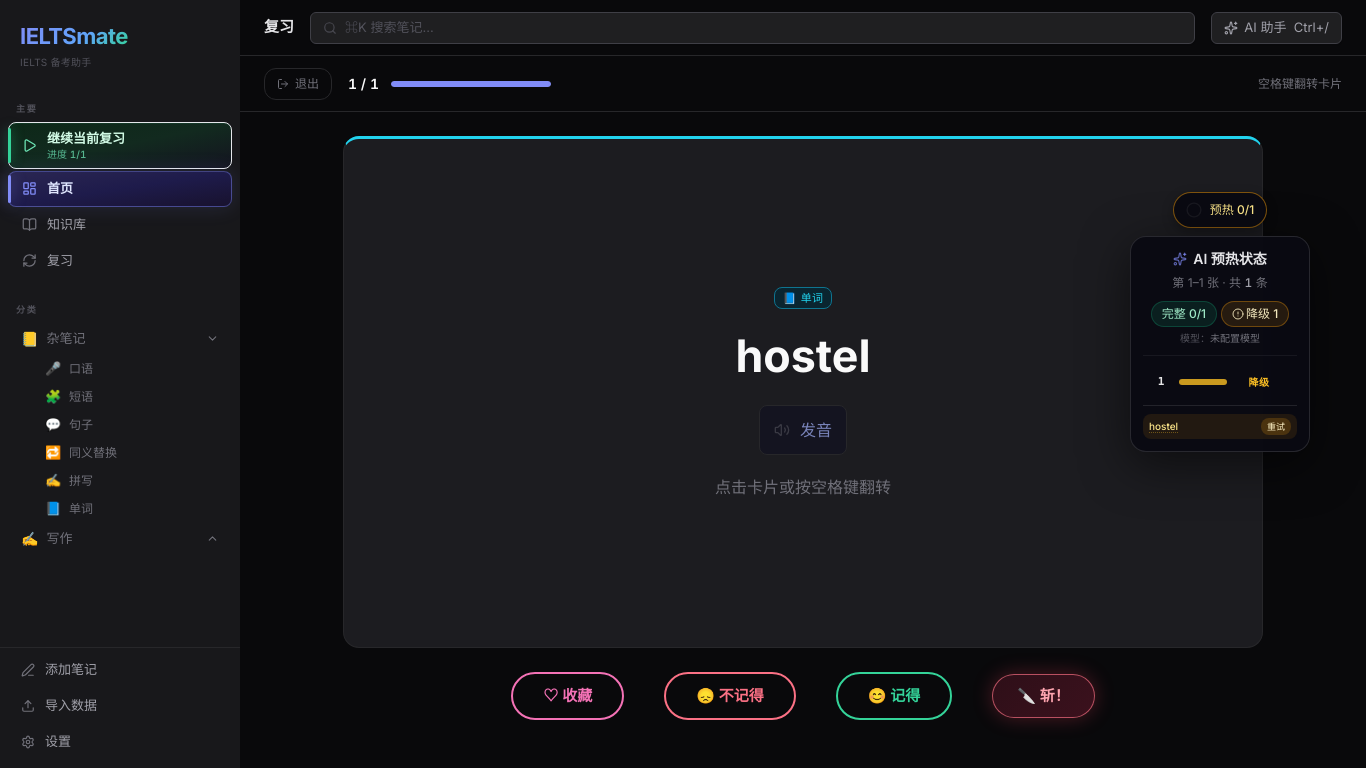
it: ReviewCards user notes on card back › 备注图片的键盘交互不会把卡片翻回正面
Click the heading "hostel".
click(803, 357)  # box [735,329,871,385]
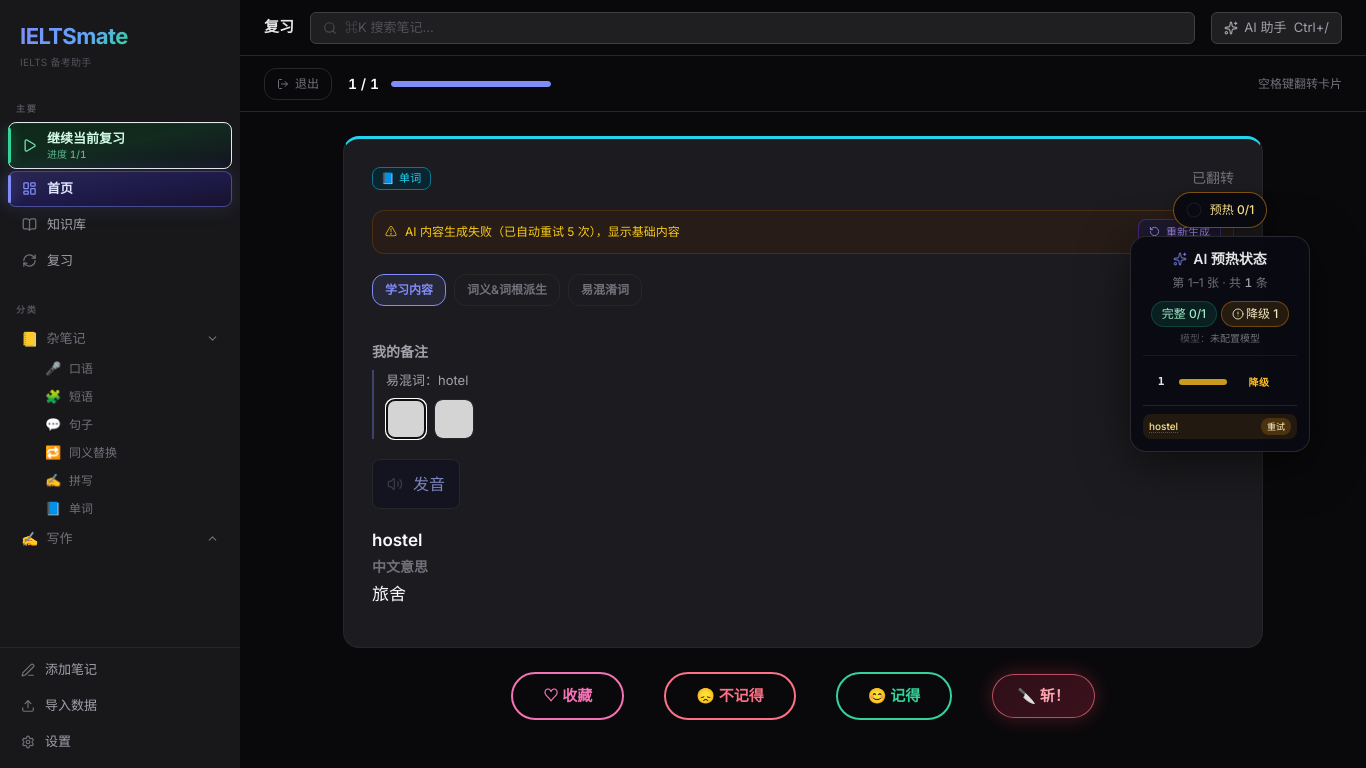
Expected: the text "我的备注" is shown, [372,343,428,360]
Type keys "[Space]"
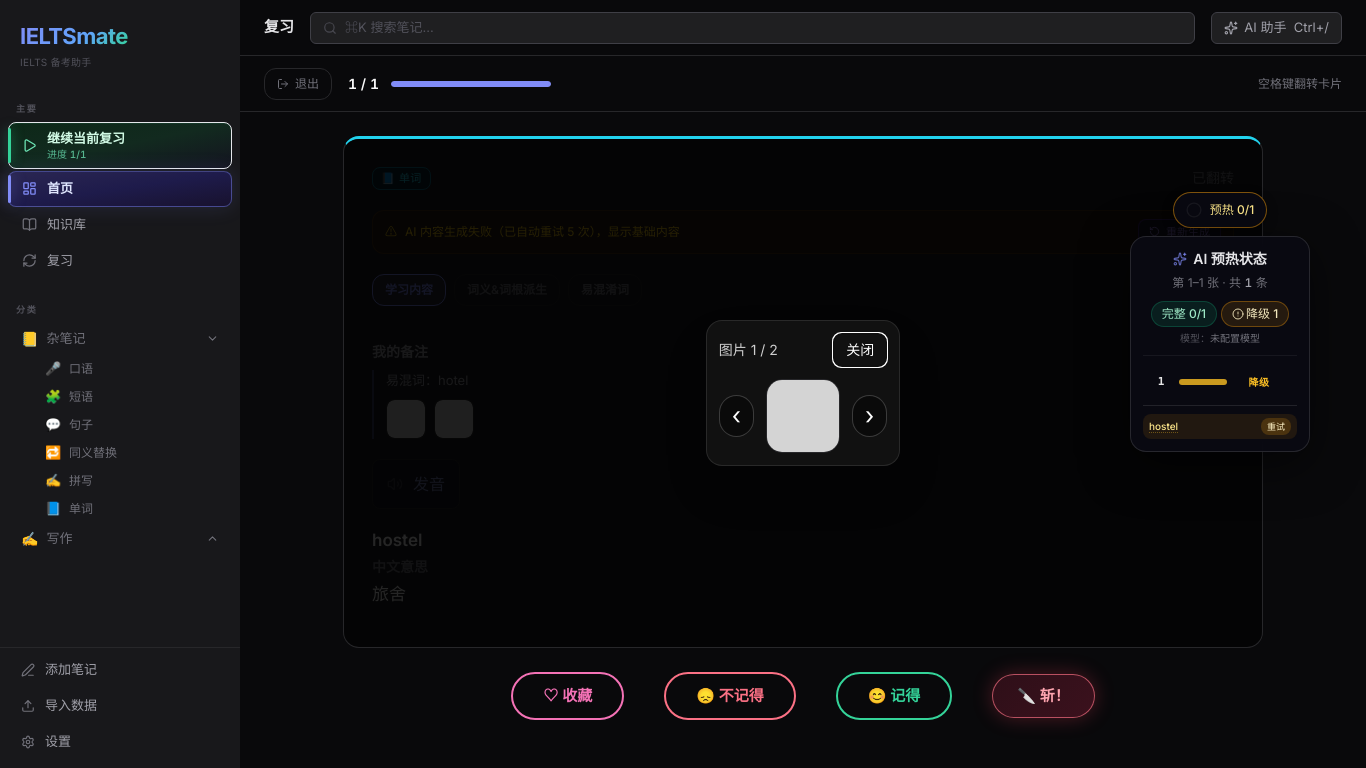
Expected: the dialog named "备注图片预览" is shown, [344,139,1262,646]
Type keys "[Space]"
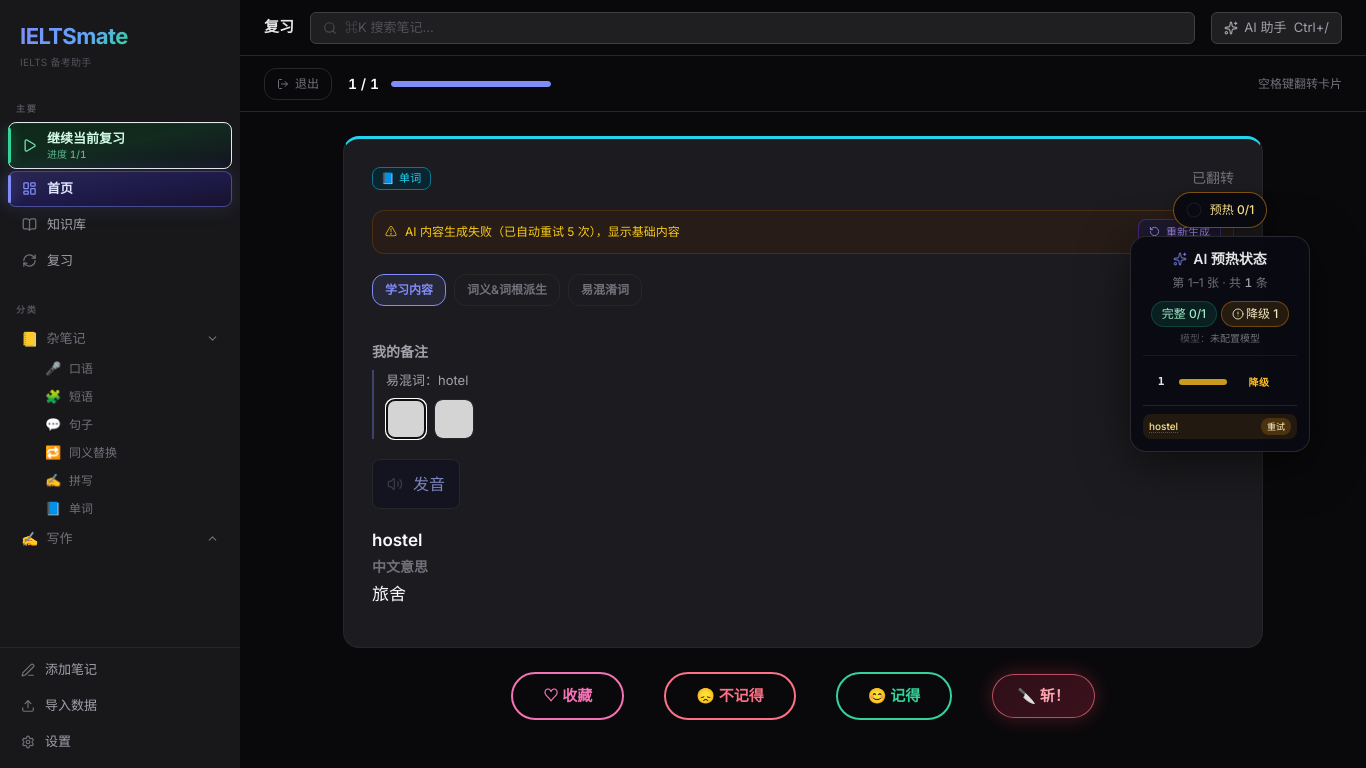
Expected: the dialog "备注图片预览" is gone
